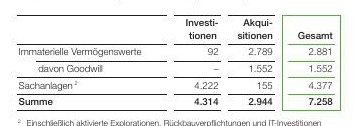table: (0, 0, 354, 126)
